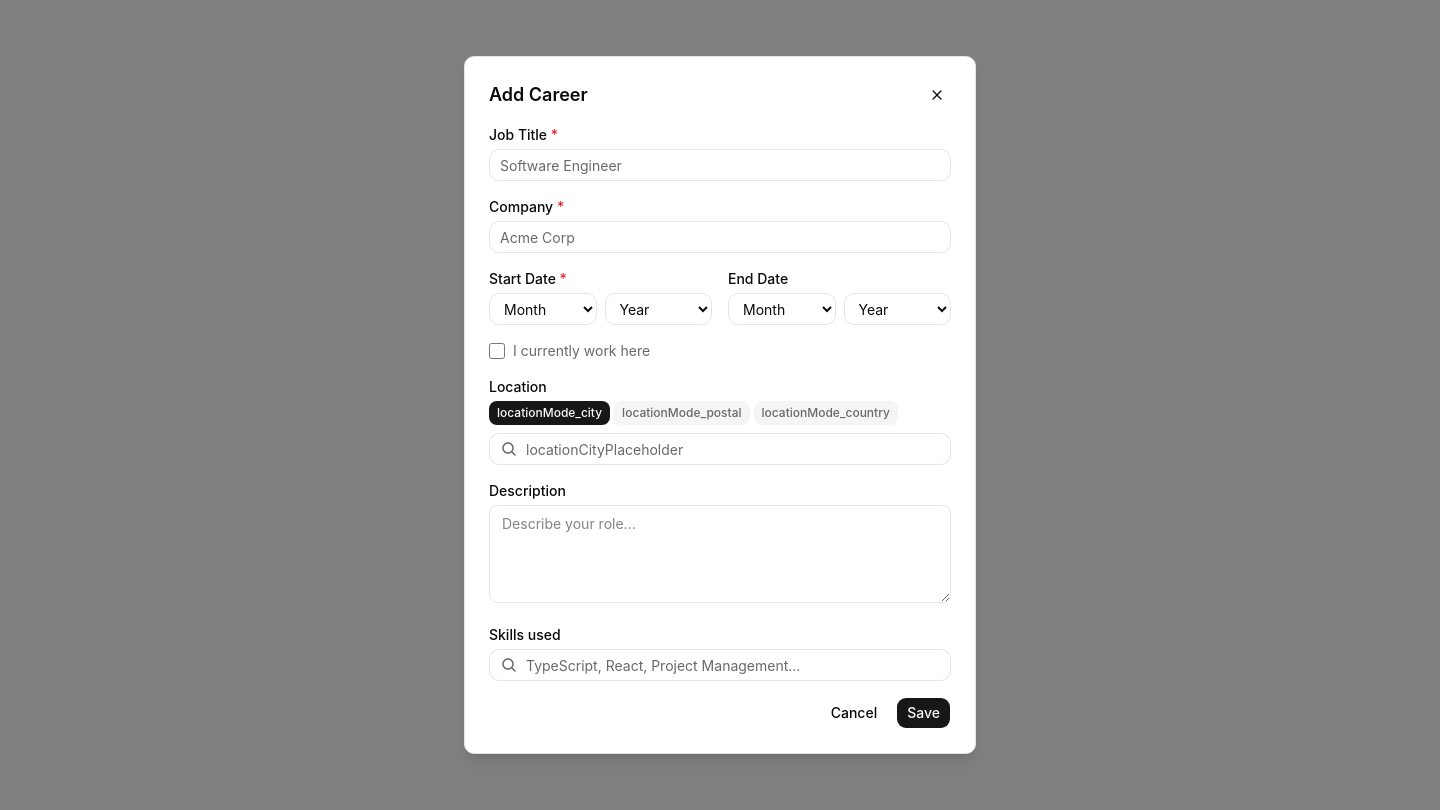
Test: PositionEditDialog › hides end date field when "I currently work here" is checked
This screenshot has width=1440, height=810.
Expected: the dropdown labelled "End Date" is shown, [728,293,836,325]
Check "I currently work here"
What coordinates should you click on to do the following:
click the checkbox labelled "I currently work here"
I would click on:
 (497, 351)
Its box is [489,343,505,359].
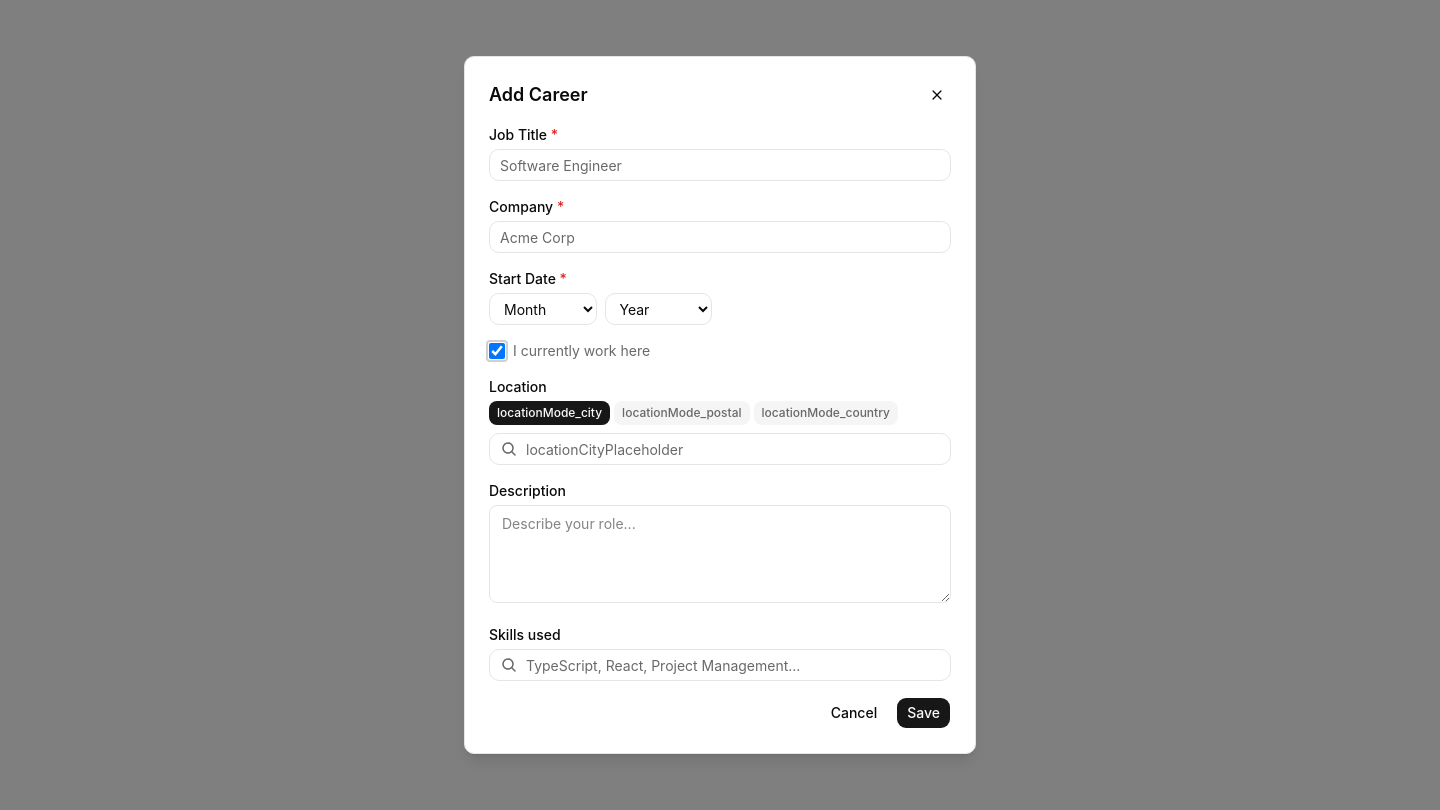
Result: the label labelled "End Date" is gone
Uncheck — End Date should reappear
What coordinates should you click on to do the following:
click the checkbox labelled "I currently work here"
I would click on:
 (497, 351)
Its box is [489,343,505,359].
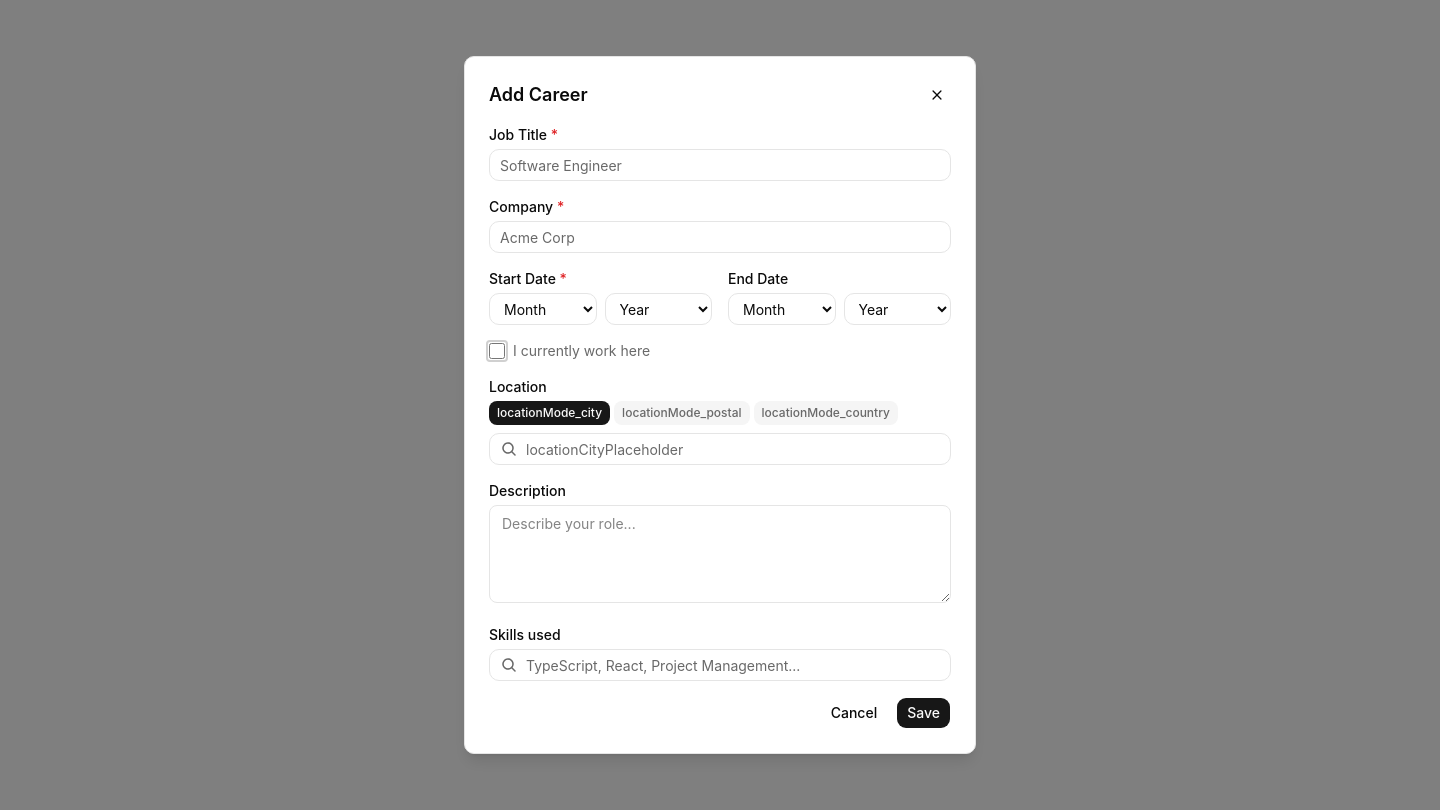
Result: the dropdown labelled "End Date" is shown at [728,293,836,325]
